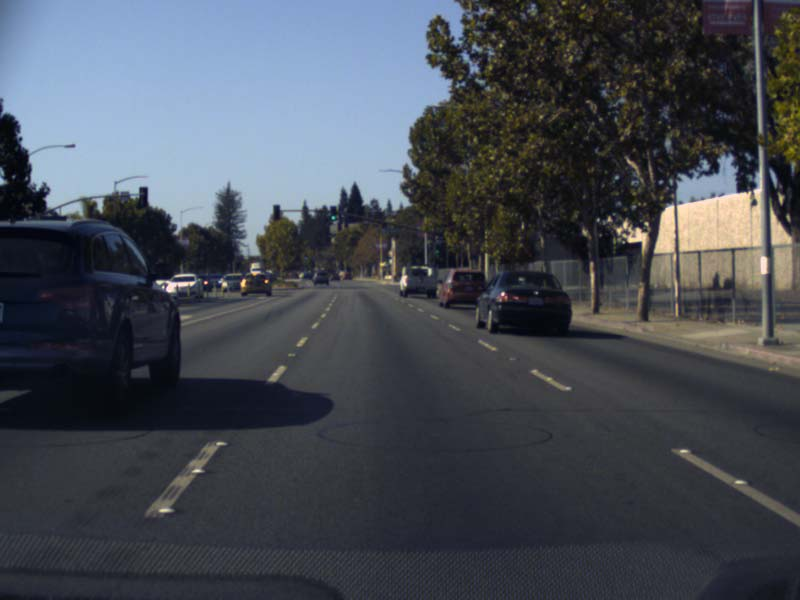Green: (433, 243, 440, 259), (330, 205, 335, 220), (303, 255, 307, 260)
